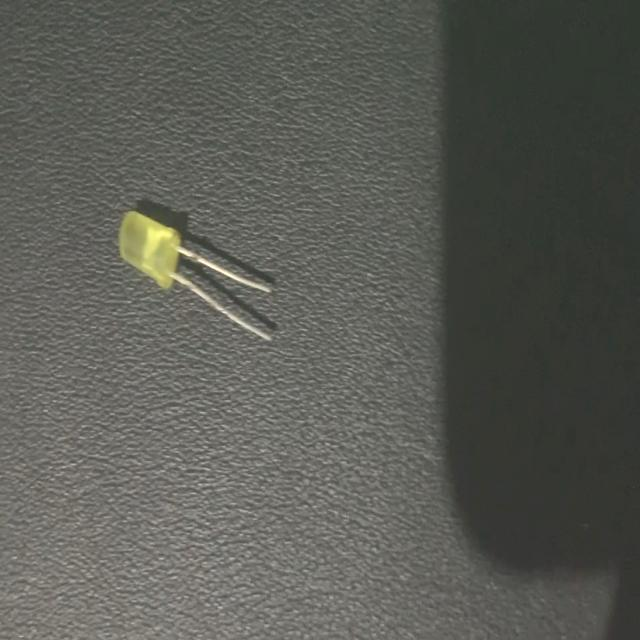LED: (119, 206, 274, 346)
